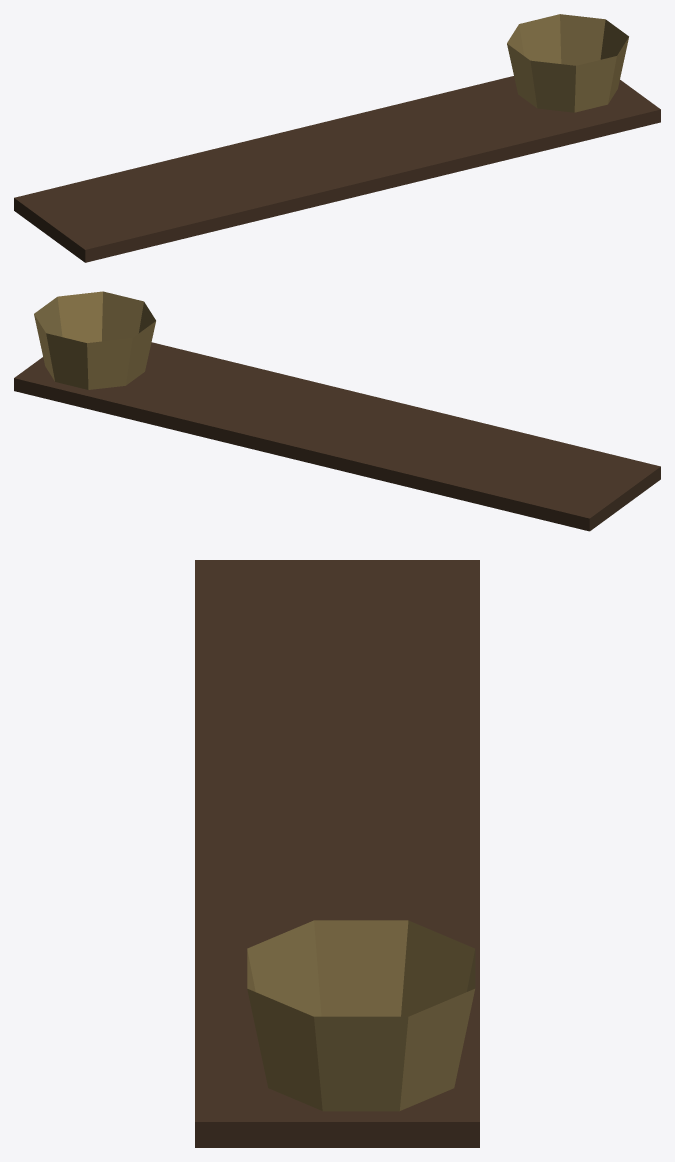
The model's file is walk_prop_goods_fish.glb.
The picture shows the model from 3 angles, top to bottom: view 1: azimuth 30°, elevation 25°; view 2: azimuth 150°, elevation 25°; view 3: azimuth 270°, elevation 25°; orthographic projection. The views are drawn at different scales.
Parts seen in each view (by area): view 1: walk_prop_goods_fish; view 2: walk_prop_goods_fish; view 3: walk_prop_goods_fish.
Part boxes in pixels (x1,y1,x2,y2): walk_prop_goods_fish: (14,14,660,262); walk_prop_goods_fish: (14,291,660,531); walk_prop_goods_fish: (195,560,479,1147).
Size of the model in its own units: 2.8 by 0.3 by 0.6.
1 material, 1 textured.
